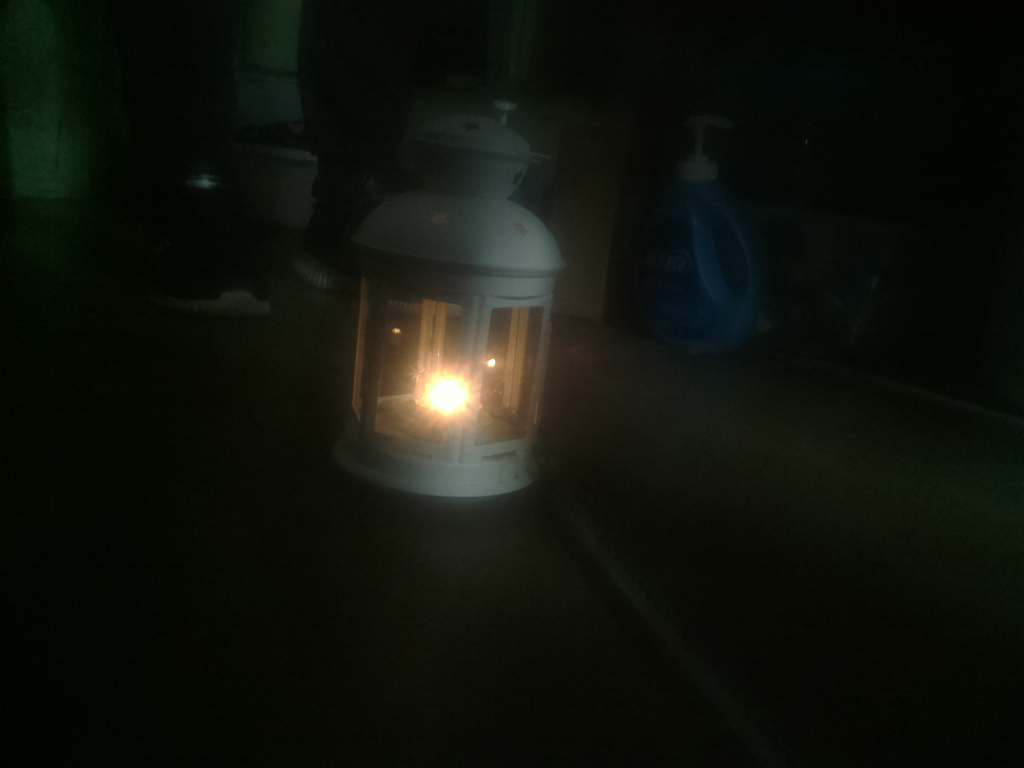fire: (411, 354, 499, 438)
